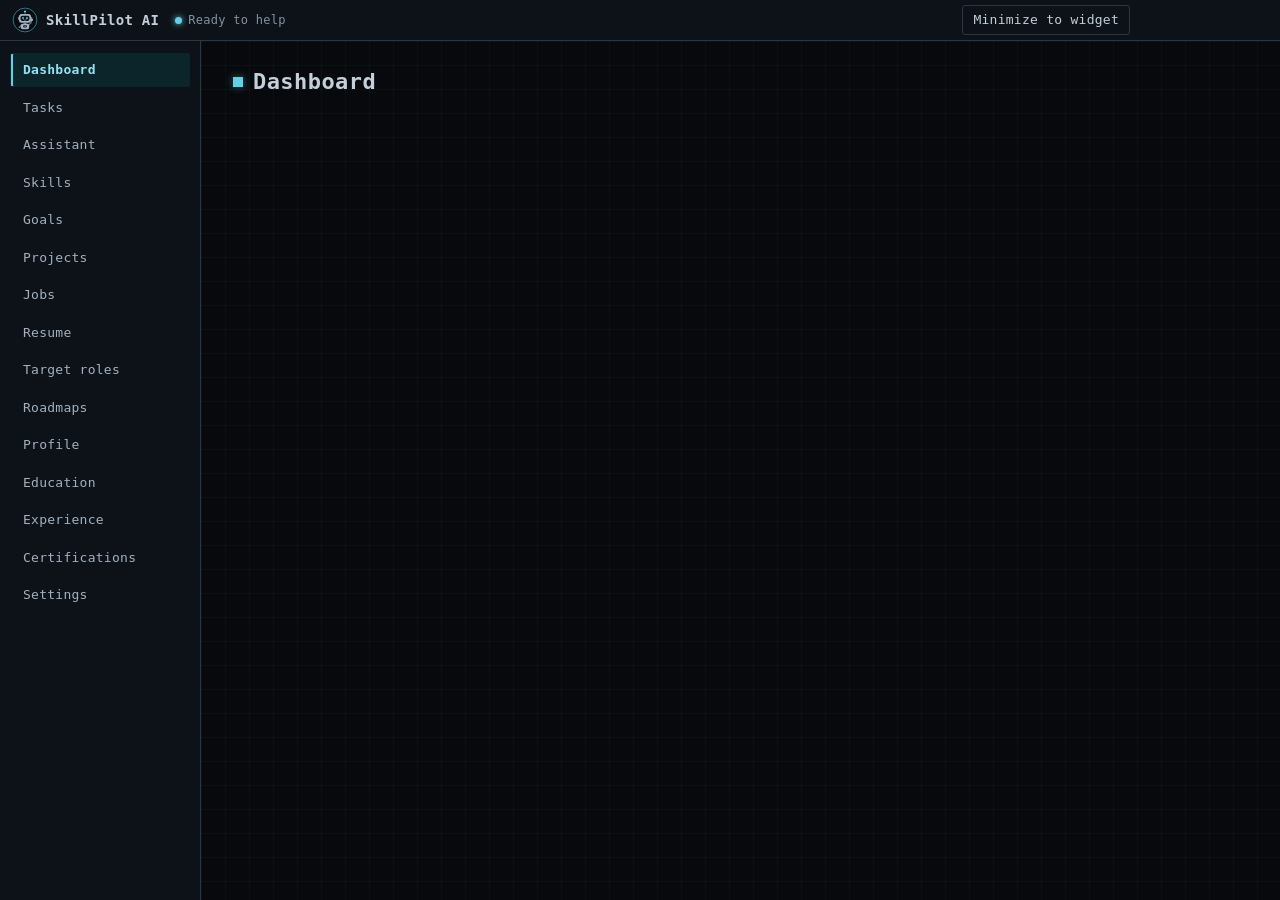
Test: App › switches to Skills
Expected: the heading "Dashboard" is shown, [253,69,376,94]
Click the button "Skills" at (100, 182), box [10,166,190,199]
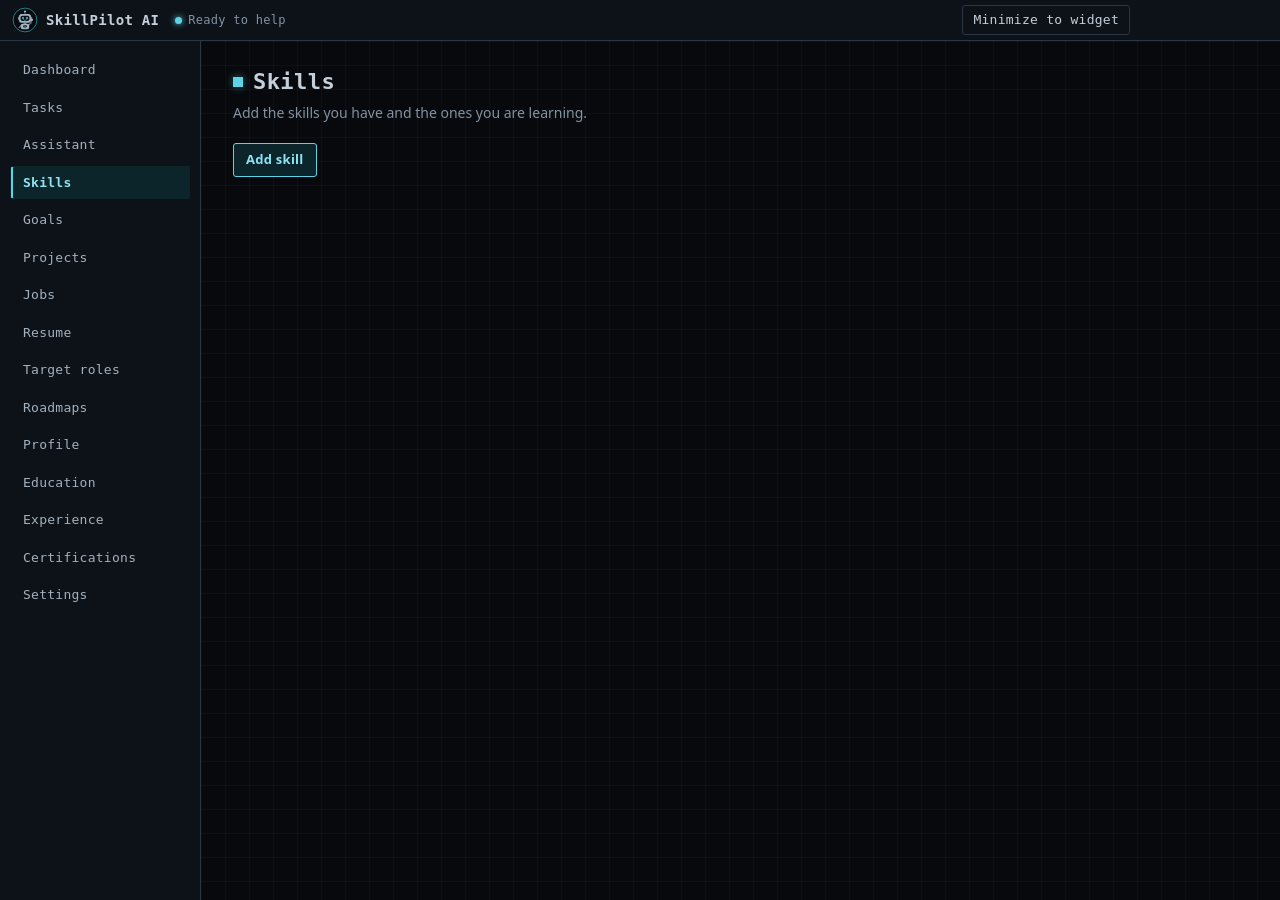
Expected: the heading "Skills" is shown, [253,69,335,94]
